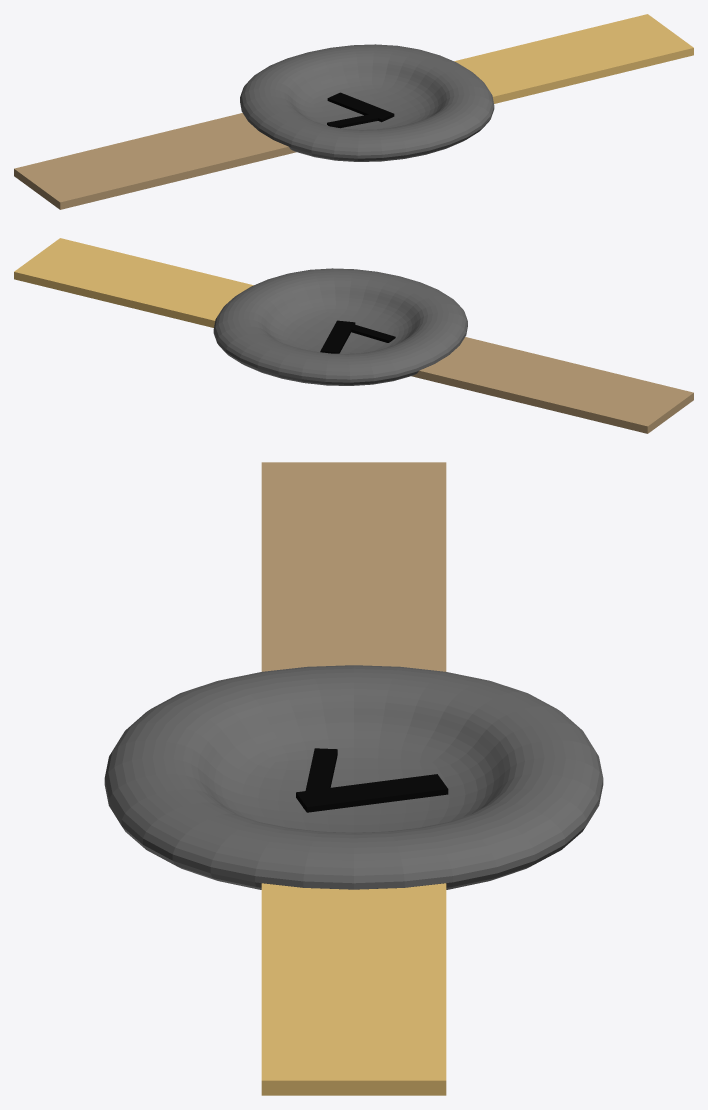
3 renders of one model, top to bottom at view 1: azimuth 30°, elevation 25°; view 2: azimuth 150°, elevation 25°; view 3: azimuth 270°, elevation 25°, orthographic. The views are drawn at different scales.
Visible parts, largest first — view 1: Плоскость, Плоскость.004, Плоскость.003, Плоскость.001, Плоскость.002; view 2: Плоскость, Плоскость.004, Плоскость.003, Плоскость.001, Плоскость.002; view 3: Плоскость, Плоскость.003, Плоскость.004, Плоскость.001, Плоскость.002.
Boxes of the visible parts, x1,y1,x2,y2 form: Плоскость: [240, 44, 494, 161]; Плоскость.004: [14, 113, 296, 209]; Плоскость.003: [454, 14, 693, 103]; Плоскость.001: [327, 92, 394, 122]; Плоскость.002: [327, 114, 390, 128]; Плоскость: [213, 268, 467, 385]; Плоскость.004: [411, 337, 693, 433]; Плоскость.003: [14, 238, 253, 327]; Плоскость.001: [320, 320, 355, 353]; Плоскость.002: [341, 321, 395, 342]; Плоскость: [104, 665, 603, 889]; Плоскость.003: [261, 883, 446, 1095]; Плоскость.004: [261, 462, 446, 671]; Плоскость.001: [296, 774, 448, 812]; Плоскость.002: [303, 748, 337, 808].
Bounding box in the file's own units: 519 × 25 × 177.
